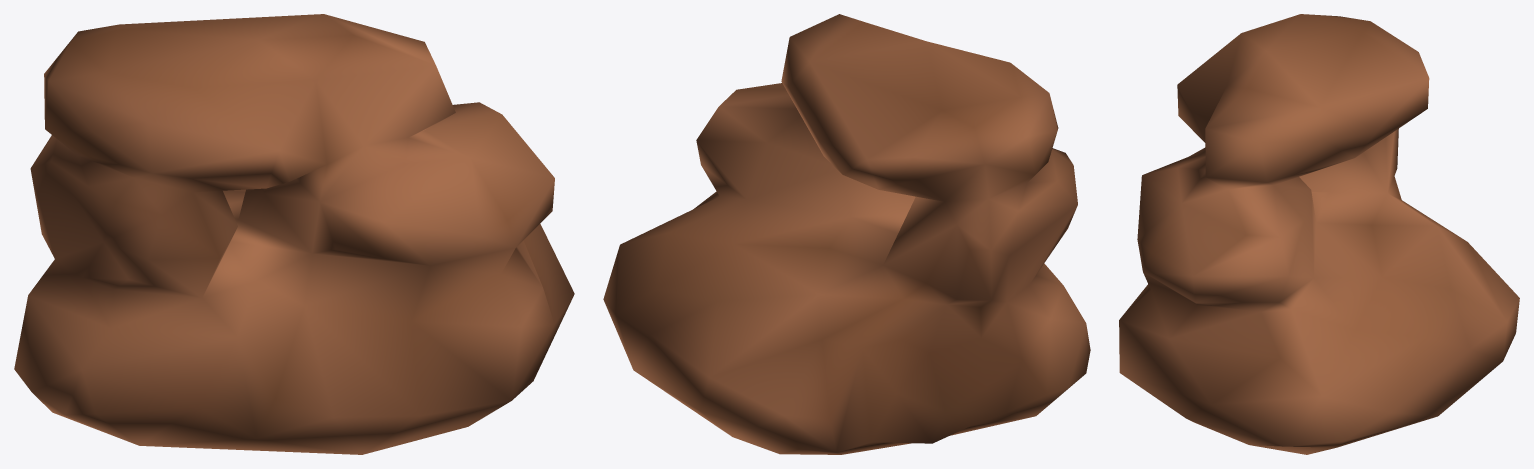
File: SmallRock_004.fbx
3 views of the same model, side by side, from view 1: azimuth 30°, elevation 25°; view 2: azimuth 150°, elevation 25°; view 3: azimuth 270°, elevation 25° (orthographic). The views are drawn at different scales.
Parts seen in each view (by area): view 1: SmallRock.004; view 2: SmallRock.004; view 3: SmallRock.004.
Part boxes in pixels (x1,y1,x2,y2): SmallRock.004: [14, 14, 574, 454]; SmallRock.004: [603, 14, 1090, 454]; SmallRock.004: [1119, 14, 1519, 454].
Size of the model in its own units: 121 by 89.38 by 102.
